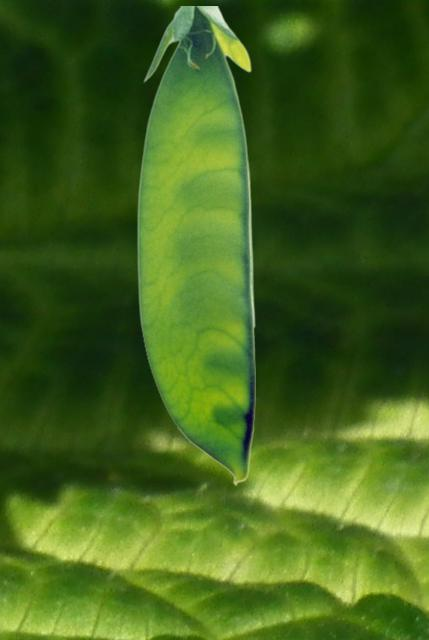pea: (136, 6, 254, 484)
